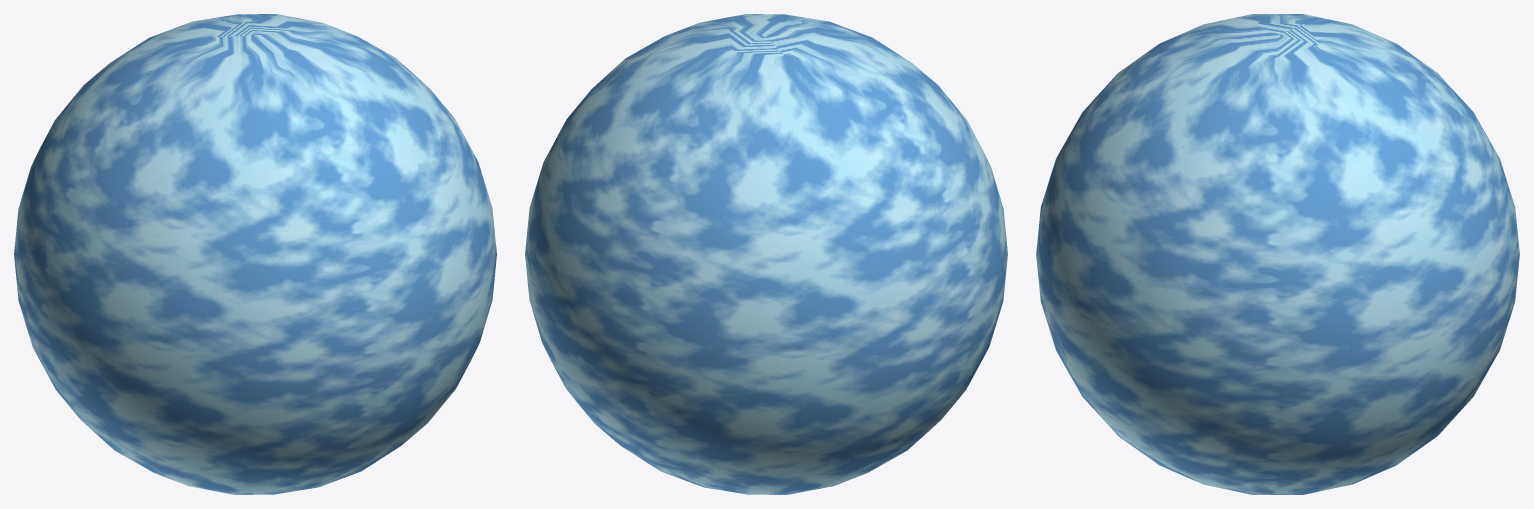
The model's file is skydome.FBX.
3 renders of one model, left to right at view 1: azimuth 30°, elevation 25°; view 2: azimuth 150°, elevation 25°; view 3: azimuth 270°, elevation 25°, orthographic.
Visible parts, largest first — view 1: GeoSphere01; view 2: GeoSphere01; view 3: GeoSphere01.
Part boxes in pixels (bbox=[...]): GeoSphere01: bbox=[14, 14, 496, 494]; GeoSphere01: bbox=[525, 14, 1007, 494]; GeoSphere01: bbox=[1036, 14, 1519, 494].
Bounding box in the file's own units: 796 × 800 × 800.
Materials: 1 (1 with a texture image).
